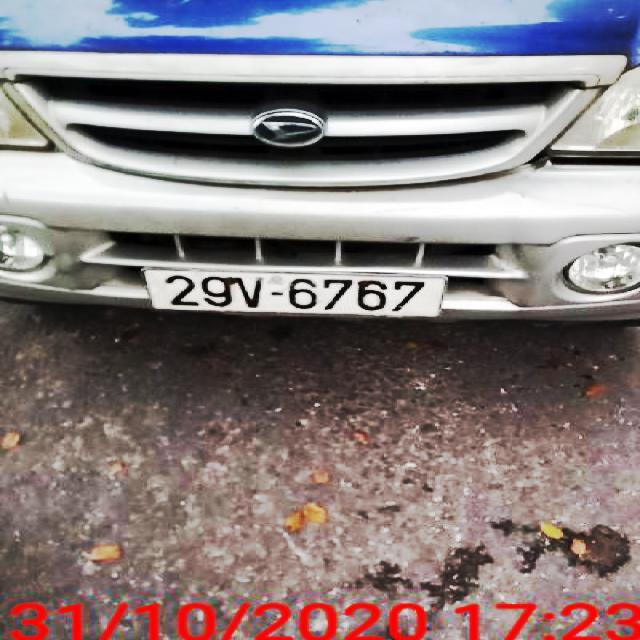license_plate: (149, 268, 446, 319)
